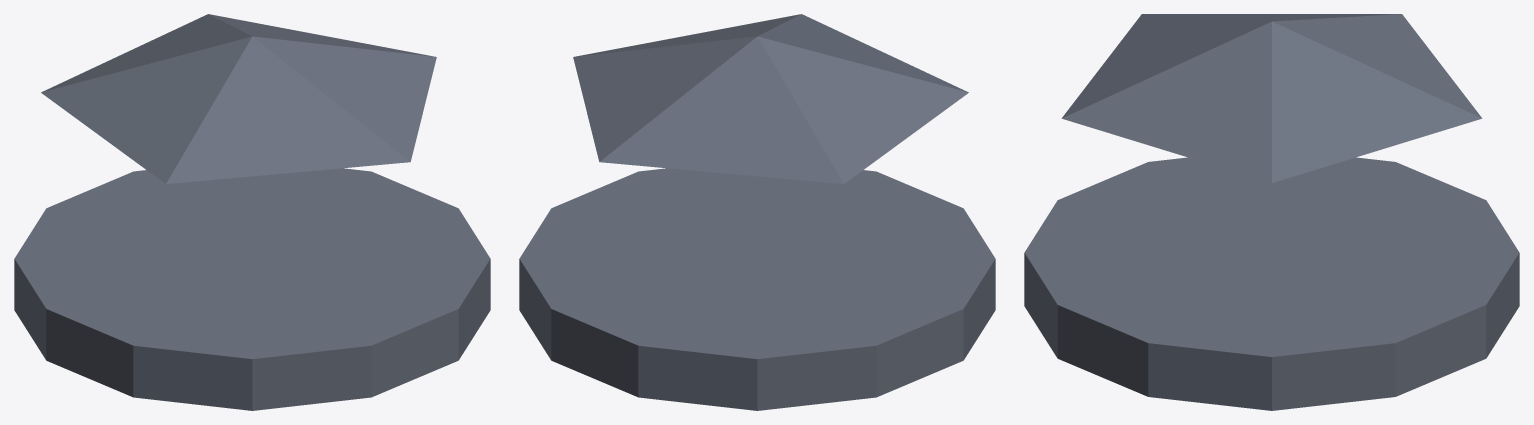
The model's file is habitation_dome.glb.
3 renders of one model, left to right at view 1: azimuth 30°, elevation 25°; view 2: azimuth 150°, elevation 25°; view 3: azimuth 270°, elevation 25°, orthographic. The views are drawn at different scales.
Visible parts, largest first — view 1: base, dome; view 2: base, dome; view 3: base, dome.
Boxes of the visible parts, x1,y1,x2,y2 form: base: (14,168,490,410); dome: (41,14,436,183); base: (519,168,995,410); dome: (573,14,968,183); base: (1024,157,1519,410); dome: (1061,14,1482,182).
Bounding box in the file's own units: 5 × 3.67 × 5.
